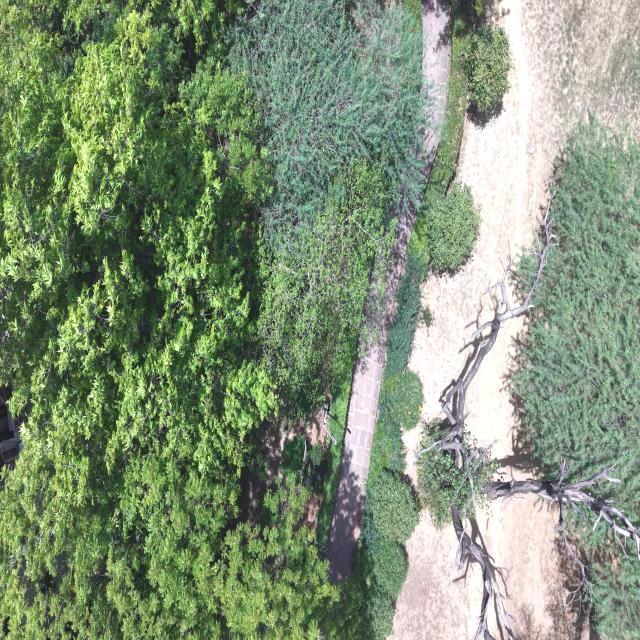DRY_AREA: (409, 0, 639, 420), (326, 207, 415, 580)
PATHWAYS: (327, 207, 415, 579)
VEGETATION_TREE: (0, 0, 437, 639), (0, 0, 425, 638), (0, 0, 424, 638), (0, 3, 275, 637), (416, 117, 639, 637), (418, 118, 639, 638), (415, 187, 639, 638), (347, 0, 478, 639), (229, 0, 426, 407), (231, 3, 424, 406), (513, 117, 639, 522), (229, 0, 426, 247), (342, 244, 431, 639), (259, 162, 393, 407), (347, 247, 426, 639), (412, 0, 494, 272), (211, 483, 339, 638), (422, 0, 503, 208), (349, 396, 415, 637), (414, 0, 477, 246), (280, 378, 349, 549), (352, 467, 418, 638), (423, 0, 476, 204), (316, 376, 350, 548), (385, 240, 427, 376), (369, 370, 421, 477), (424, 183, 479, 273), (416, 448, 470, 529), (362, 468, 418, 546), (463, 25, 512, 113), (372, 535, 406, 599), (280, 435, 305, 480), (402, 0, 421, 28), (308, 441, 323, 467), (418, 305, 432, 331), (473, 0, 482, 17)
